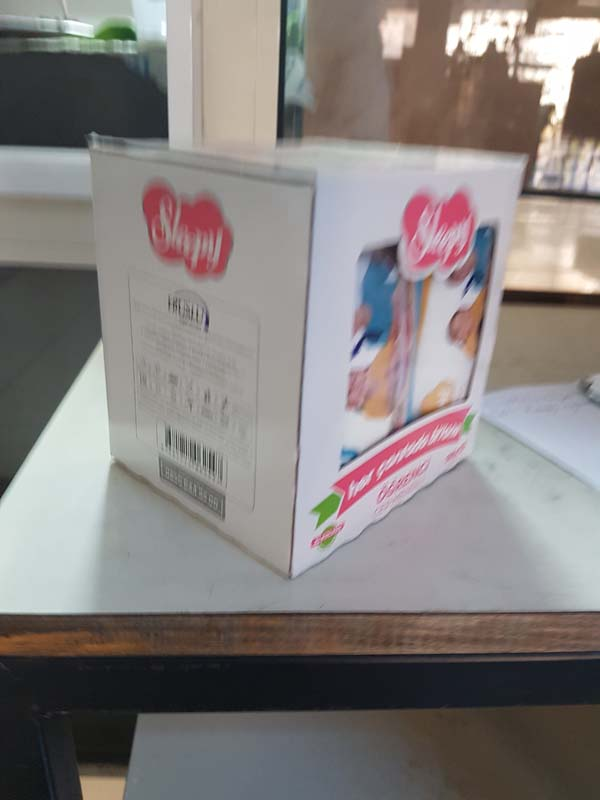sleepyogrencikoli: (66, 106, 546, 574)
